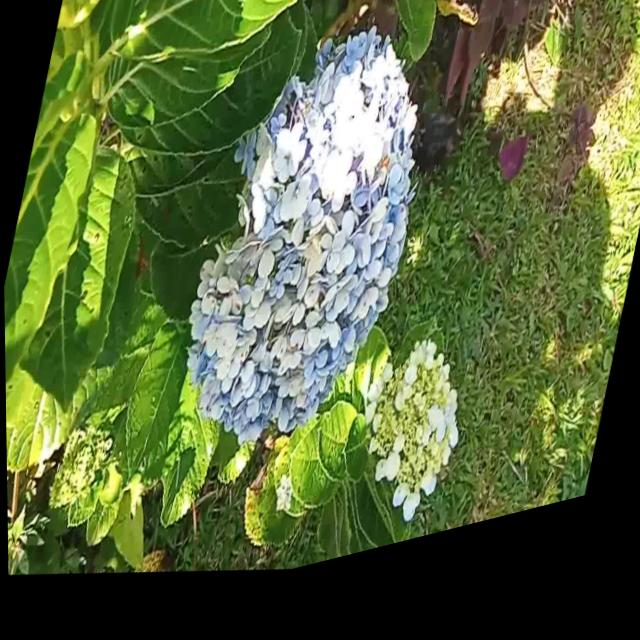Flower: (162, 9, 453, 500), (337, 337, 481, 566)
